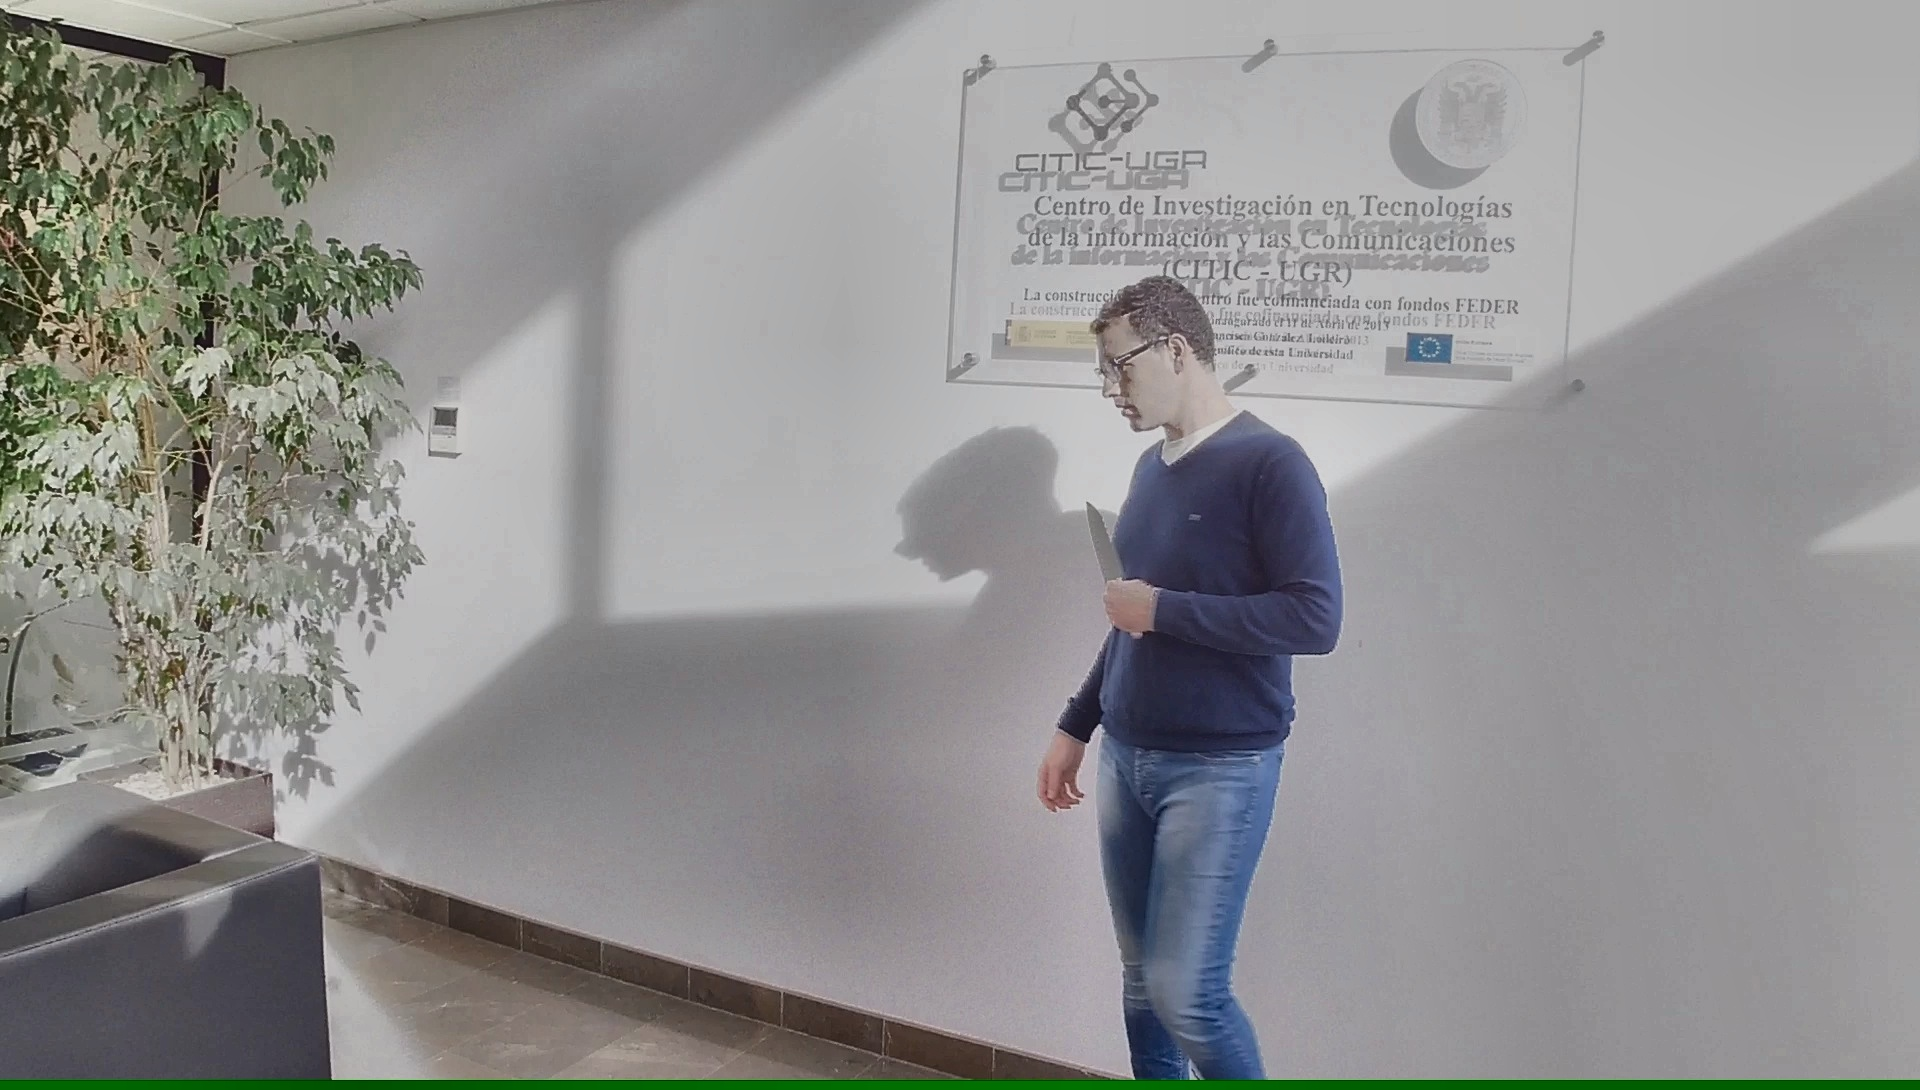knife: (1077, 489, 1149, 645)
